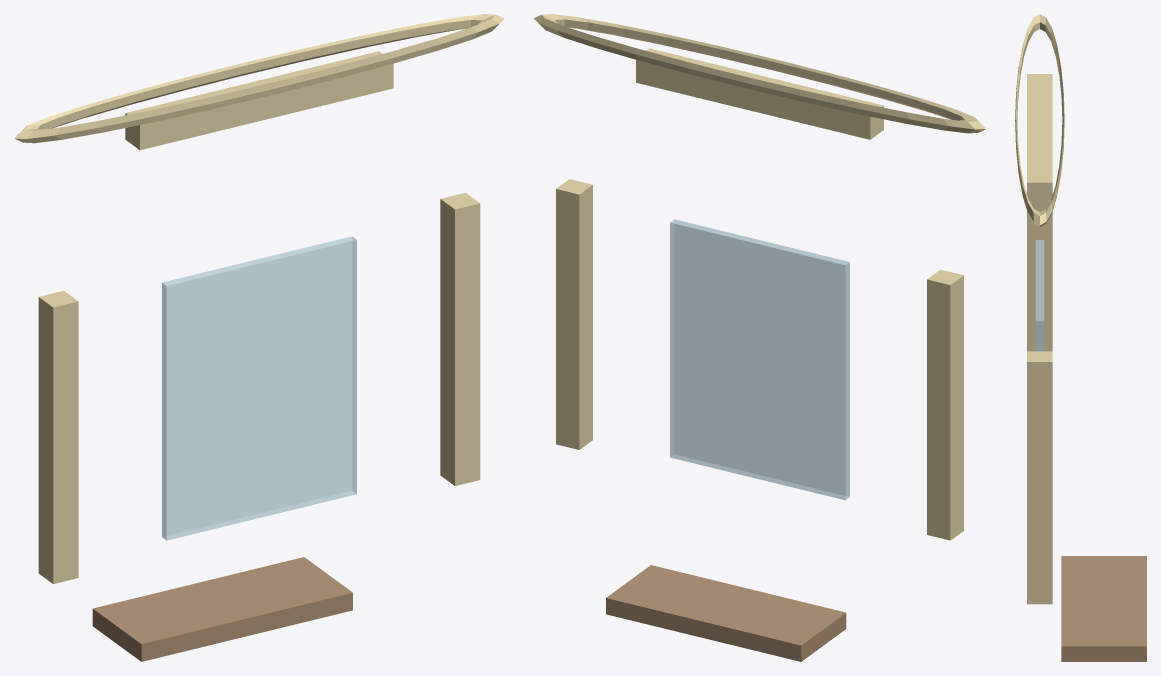
Rendered from reef-door.glb.
The picture shows the model from 3 angles, left to right: view 1: azimuth 30°, elevation 25°; view 2: azimuth 150°, elevation 25°; view 3: azimuth 270°, elevation 25°; orthographic projection. The views are drawn at different scales.
Visible parts, largest first — view 1: Cube.020, Cube.017, Cube.021; view 2: Cube.020, Cube.017, Cube.021; view 3: Cube.017, Cube.021, Cube.020.
Part boxes in pixels (x1,y1,x2,y2): Cube.020: (162, 236, 356, 540); Cube.017: (14, 14, 504, 583); Cube.021: (92, 557, 352, 661); Cube.020: (670, 219, 849, 500); Cube.017: (534, 14, 985, 540); Cube.021: (606, 565, 846, 661); Cube.017: (1015, 14, 1064, 604); Cube.021: (1061, 556, 1146, 661); Cube.020: (1035, 240, 1044, 351).
Size of the model in its own units: 2.32 by 2.59 by 0.616.
